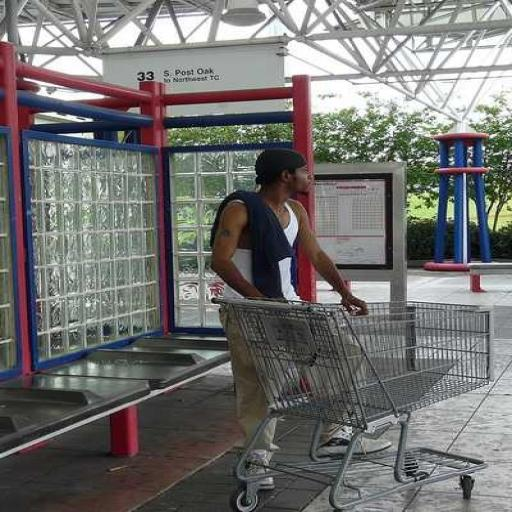shopping_cart: (208, 291, 494, 512)
